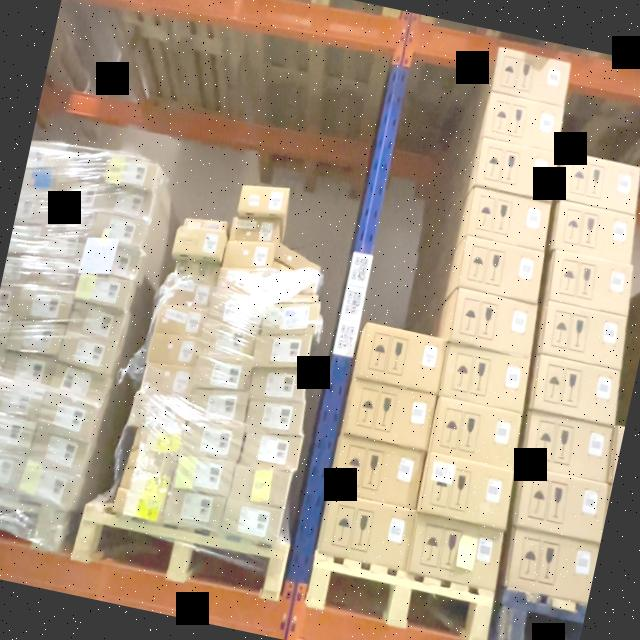box: (511, 465, 612, 542), (318, 492, 416, 569), (418, 454, 516, 530), (407, 514, 505, 590), (505, 528, 599, 602), (520, 412, 616, 484), (343, 378, 438, 450), (330, 436, 426, 507), (355, 321, 447, 393), (447, 288, 540, 359), (530, 355, 624, 425), (432, 398, 524, 468), (439, 343, 531, 412), (547, 252, 638, 318), (538, 302, 628, 368), (458, 236, 546, 302), (467, 189, 553, 253), (553, 202, 639, 266), (472, 139, 558, 201), (480, 91, 564, 152), (491, 46, 572, 107), (559, 152, 640, 213), (219, 498, 284, 547), (228, 461, 292, 509), (66, 300, 127, 350), (238, 427, 301, 475), (180, 414, 242, 462), (192, 349, 254, 397), (82, 232, 144, 280), (252, 327, 312, 375), (162, 489, 224, 535), (28, 431, 88, 478), (243, 394, 305, 439), (172, 454, 232, 500), (248, 362, 308, 407), (258, 294, 318, 339), (132, 392, 190, 438), (189, 385, 249, 428), (88, 208, 148, 250), (19, 464, 76, 508), (48, 364, 106, 407), (200, 318, 258, 360), (16, 287, 72, 330), (8, 316, 64, 358), (75, 270, 133, 310), (156, 297, 210, 339), (0, 353, 55, 394), (208, 289, 262, 330), (96, 184, 154, 222), (148, 330, 202, 370), (142, 362, 196, 402), (24, 256, 80, 294), (264, 268, 320, 306), (104, 154, 159, 192), (238, 182, 290, 222), (36, 224, 86, 263), (229, 213, 280, 250), (176, 224, 227, 261), (224, 237, 274, 273), (170, 255, 220, 291), (0, 382, 45, 422), (112, 490, 166, 523), (216, 264, 267, 298), (120, 466, 170, 499), (130, 446, 176, 480), (272, 243, 322, 274), (0, 415, 35, 457), (134, 428, 182, 458), (15, 193, 50, 229), (0, 449, 27, 494), (185, 213, 228, 235), (2, 256, 24, 288), (0, 286, 18, 317)
